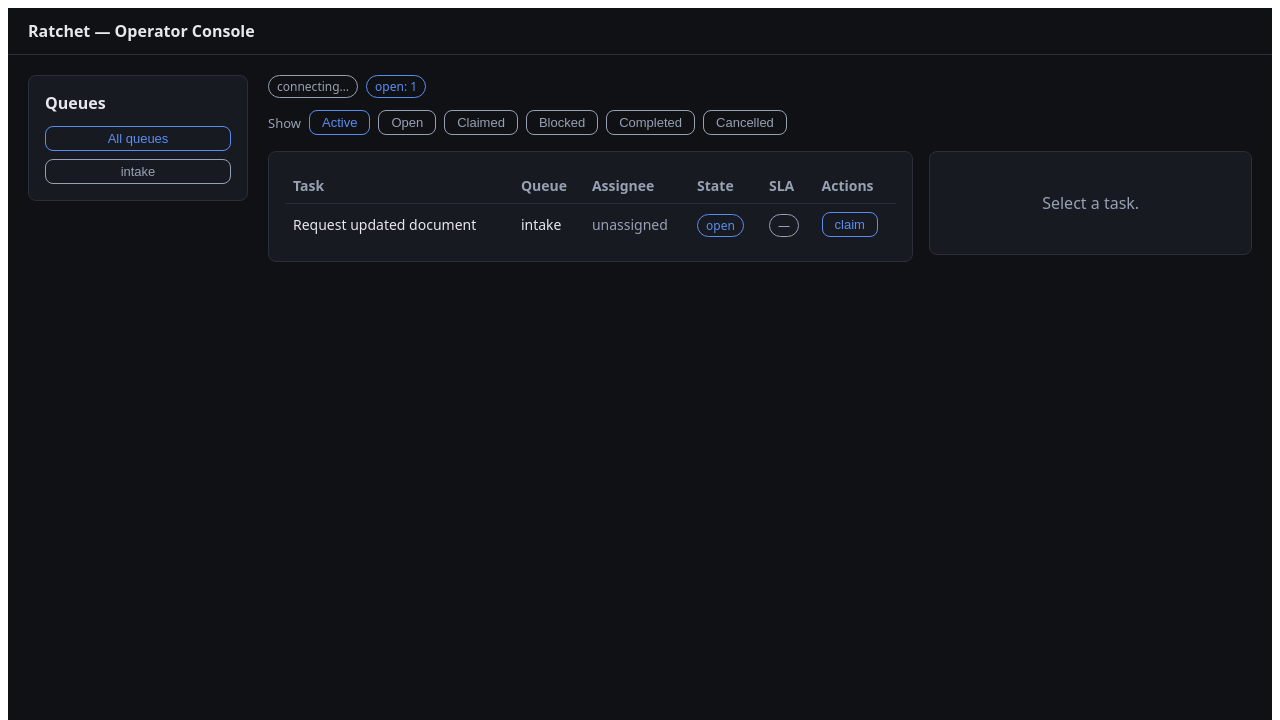
Test: a task with no recorded evaluations still names its rule
Click the text "Request updated document".
click(399, 224)  # box [285,204,513,245]
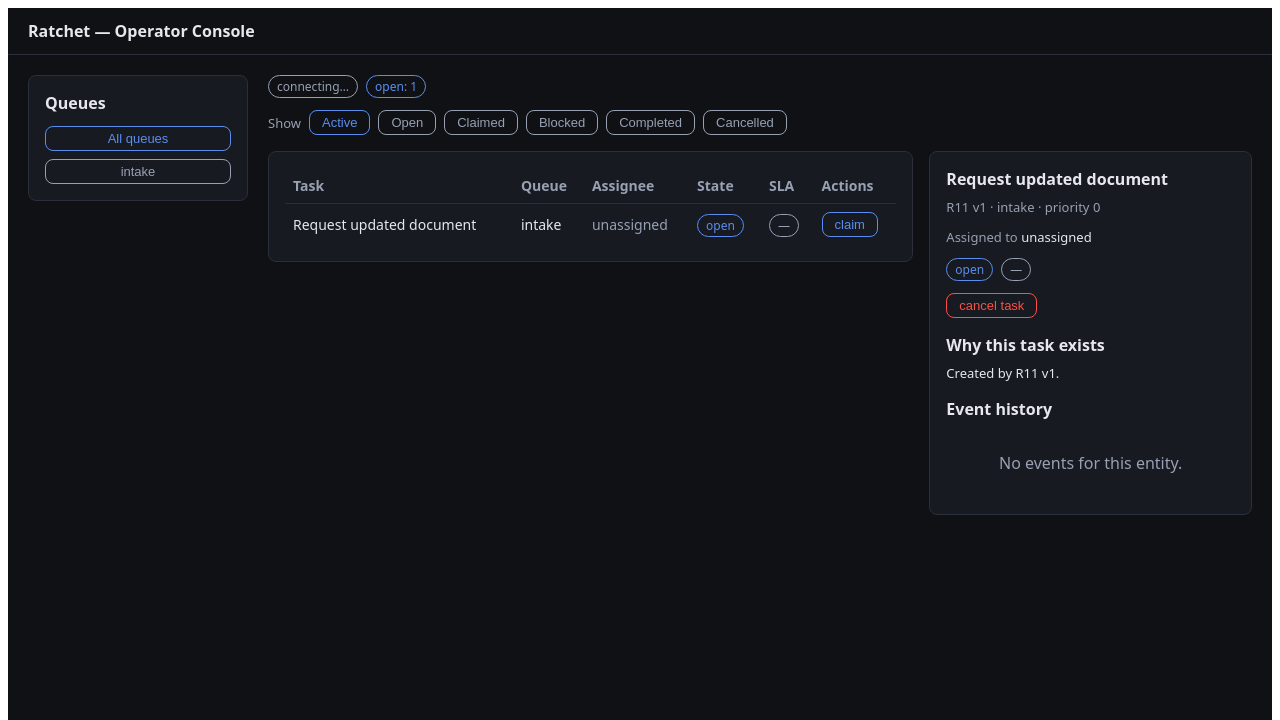
Now the text "Created by R11 v1." is shown, box [946,364,1059,382]
